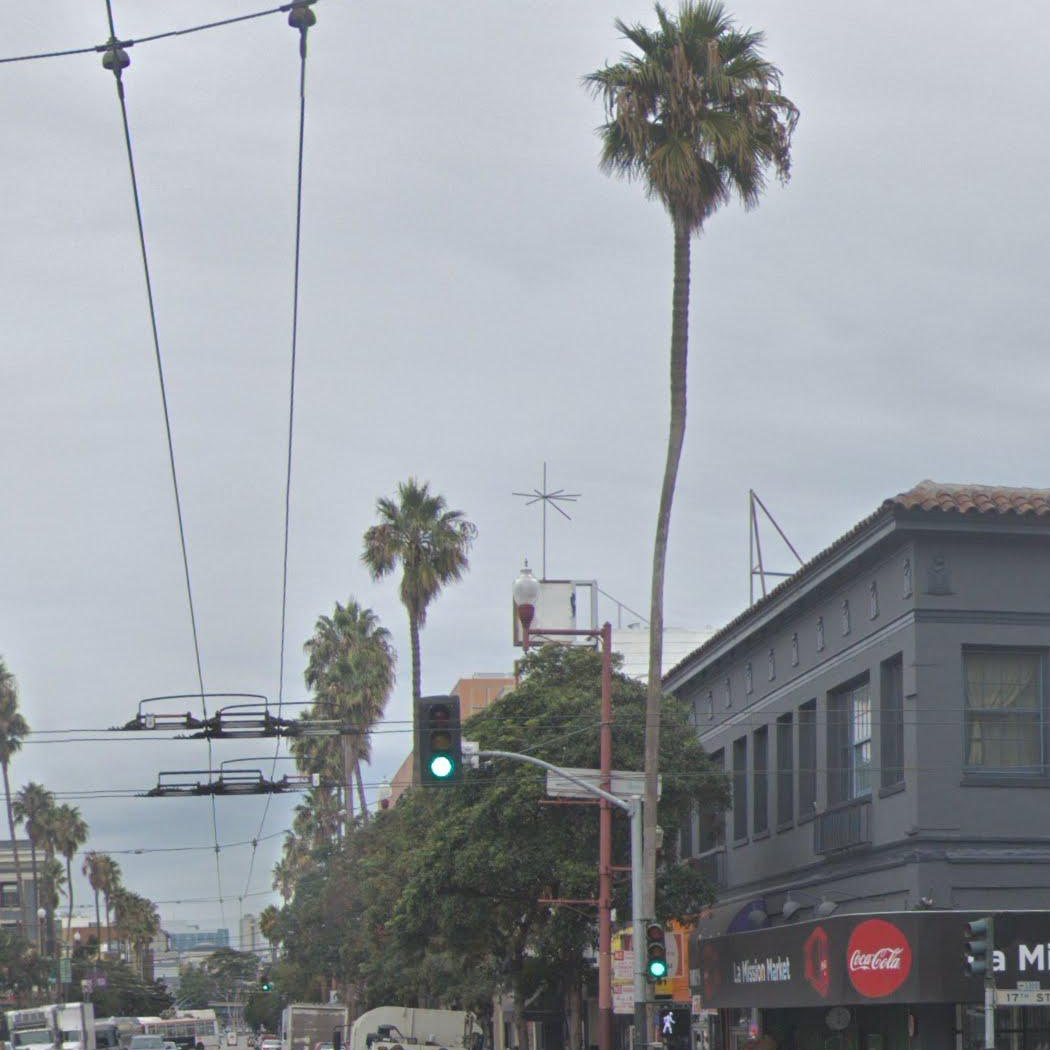No Parking: (612, 949, 636, 982), (611, 984, 636, 1015)
